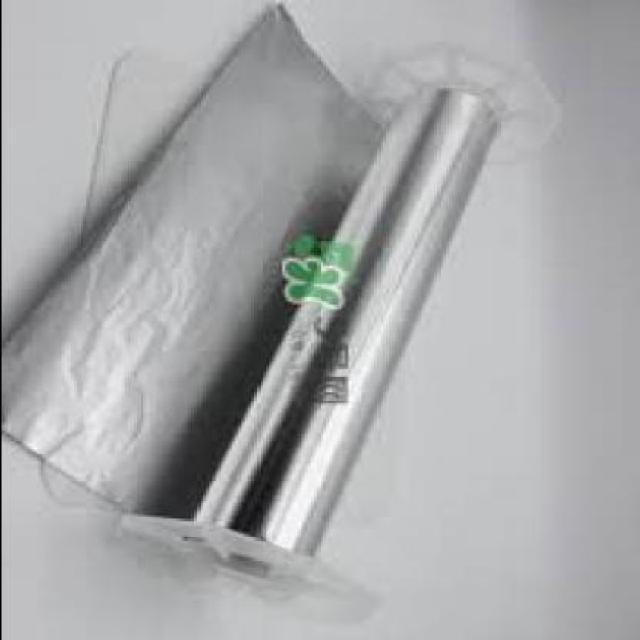METAL: (3, 3, 502, 560)
